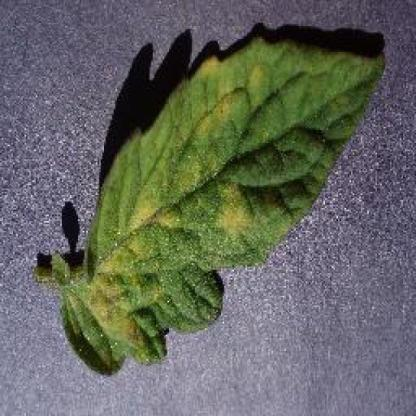Tomato_Leaf_Mold: (57, 48, 382, 373)
